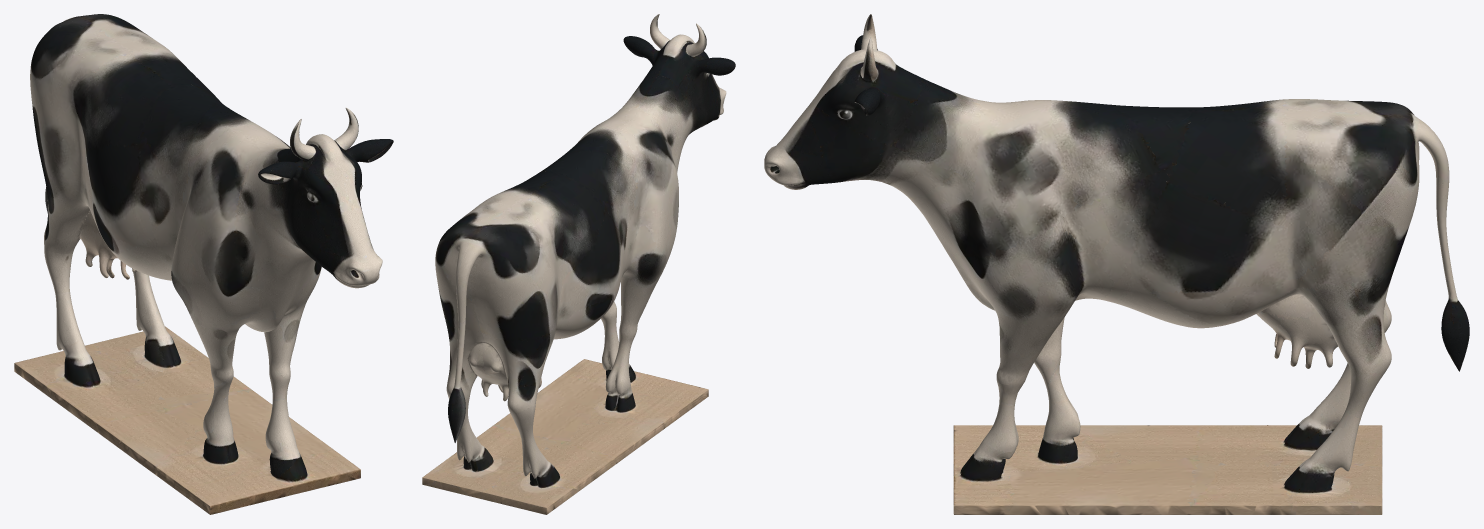
Rendered from Meshy_AI_A_flat_wooden_theater_0823154138_texture (2)-optimized.glb.
3 renders of one model, left to right at view 1: azimuth 30°, elevation 25°; view 2: azimuth 150°, elevation 25°; view 3: azimuth 270°, elevation 25°, orthographic. The views are drawn at different scales.
Visible parts, largest first — view 1: mesh_node; view 2: mesh_node; view 3: mesh_node.
Boxes of the visible parts, x1,y1,x2,y2 form: mesh_node: (14,14,393,514); mesh_node: (422,14,735,514); mesh_node: (764,14,1469,514).
Bounding box in the file's own units: 0.5129 × 1.33 × 1.9.
Materials: 1 (1 with a texture image).
